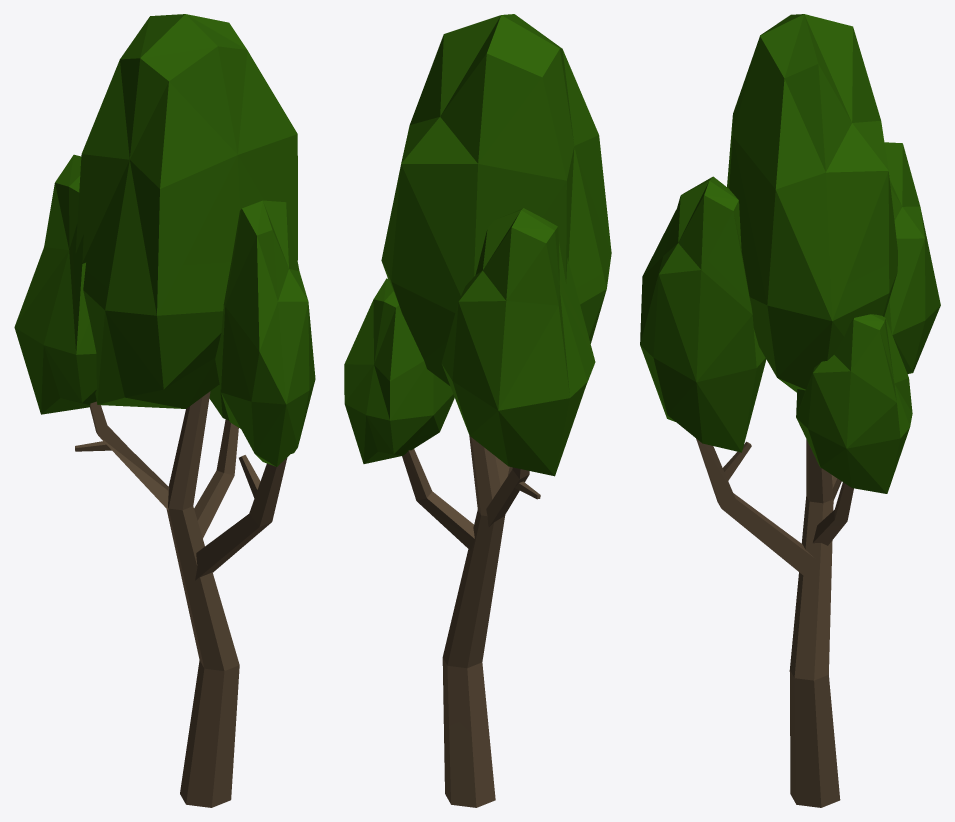
Rendered from 42 Tree.fbx.
3 renders of one model, left to right at view 1: azimuth 30°, elevation 25°; view 2: azimuth 150°, elevation 25°; view 3: azimuth 270°, elevation 25°, orthographic. The views are drawn at different scales.
Parts seen in each view (by area): view 1: Tree_temp_climate_176; view 2: Tree_temp_climate_176; view 3: Tree_temp_climate_176.
Part boxes in pixels (x1,y1,x2,y2): Tree_temp_climate_176: [14, 14, 315, 807]; Tree_temp_climate_176: [344, 14, 611, 807]; Tree_temp_climate_176: [640, 14, 940, 807].
Bounding box in the file's own units: 32.5 × 105 × 37.24.
